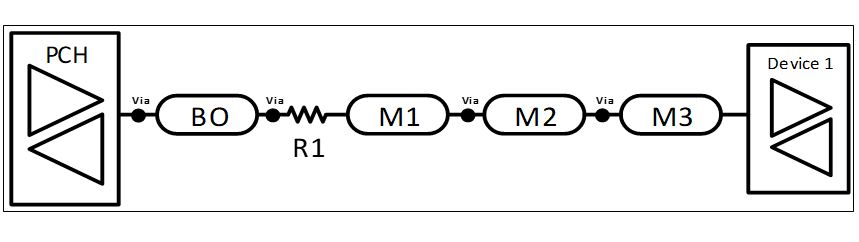circle: (461, 106, 477, 128), (266, 107, 282, 123), (132, 110, 145, 126), (598, 110, 611, 125)
oval: (156, 95, 257, 139), (620, 93, 723, 136), (347, 95, 451, 136), (484, 97, 589, 136)
rectangle: (8, 30, 122, 208), (746, 42, 849, 196)
resistor: (286, 101, 332, 130)
triangle: (23, 63, 109, 139), (24, 111, 108, 186), (764, 117, 835, 183), (765, 78, 832, 141)
